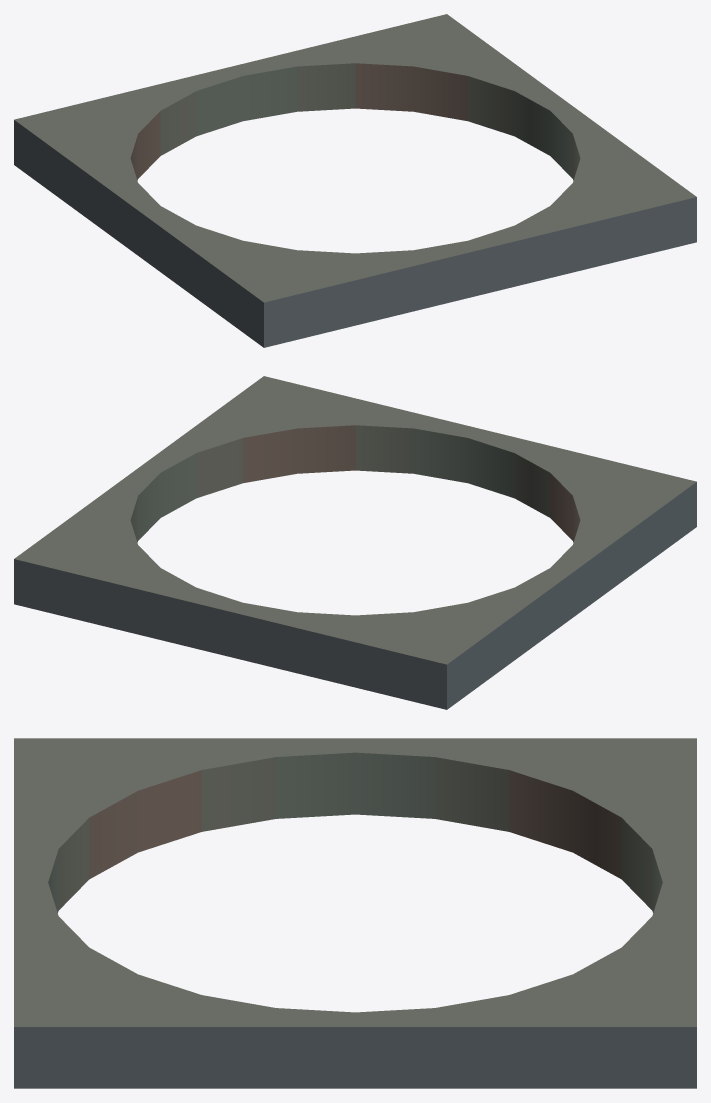
Rendered from Floor_hole_round.fbx.
The picture shows the model from 3 angles, top to bottom: view 1: azimuth 30°, elevation 25°; view 2: azimuth 150°, elevation 25°; view 3: azimuth 270°, elevation 25°; orthographic projection. The views are drawn at different scales.
Parts seen in each view (by area): view 1: Mesh; view 2: Mesh; view 3: Mesh.
Part boxes in pixels (left/top/right/bottom): Mesh: left=14, top=14, right=696, bottom=347; Mesh: left=14, top=376, right=696, bottom=709; Mesh: left=14, top=738, right=696, bottom=1088.
Bounding box in the file's own units: 100 × 10 × 100.
